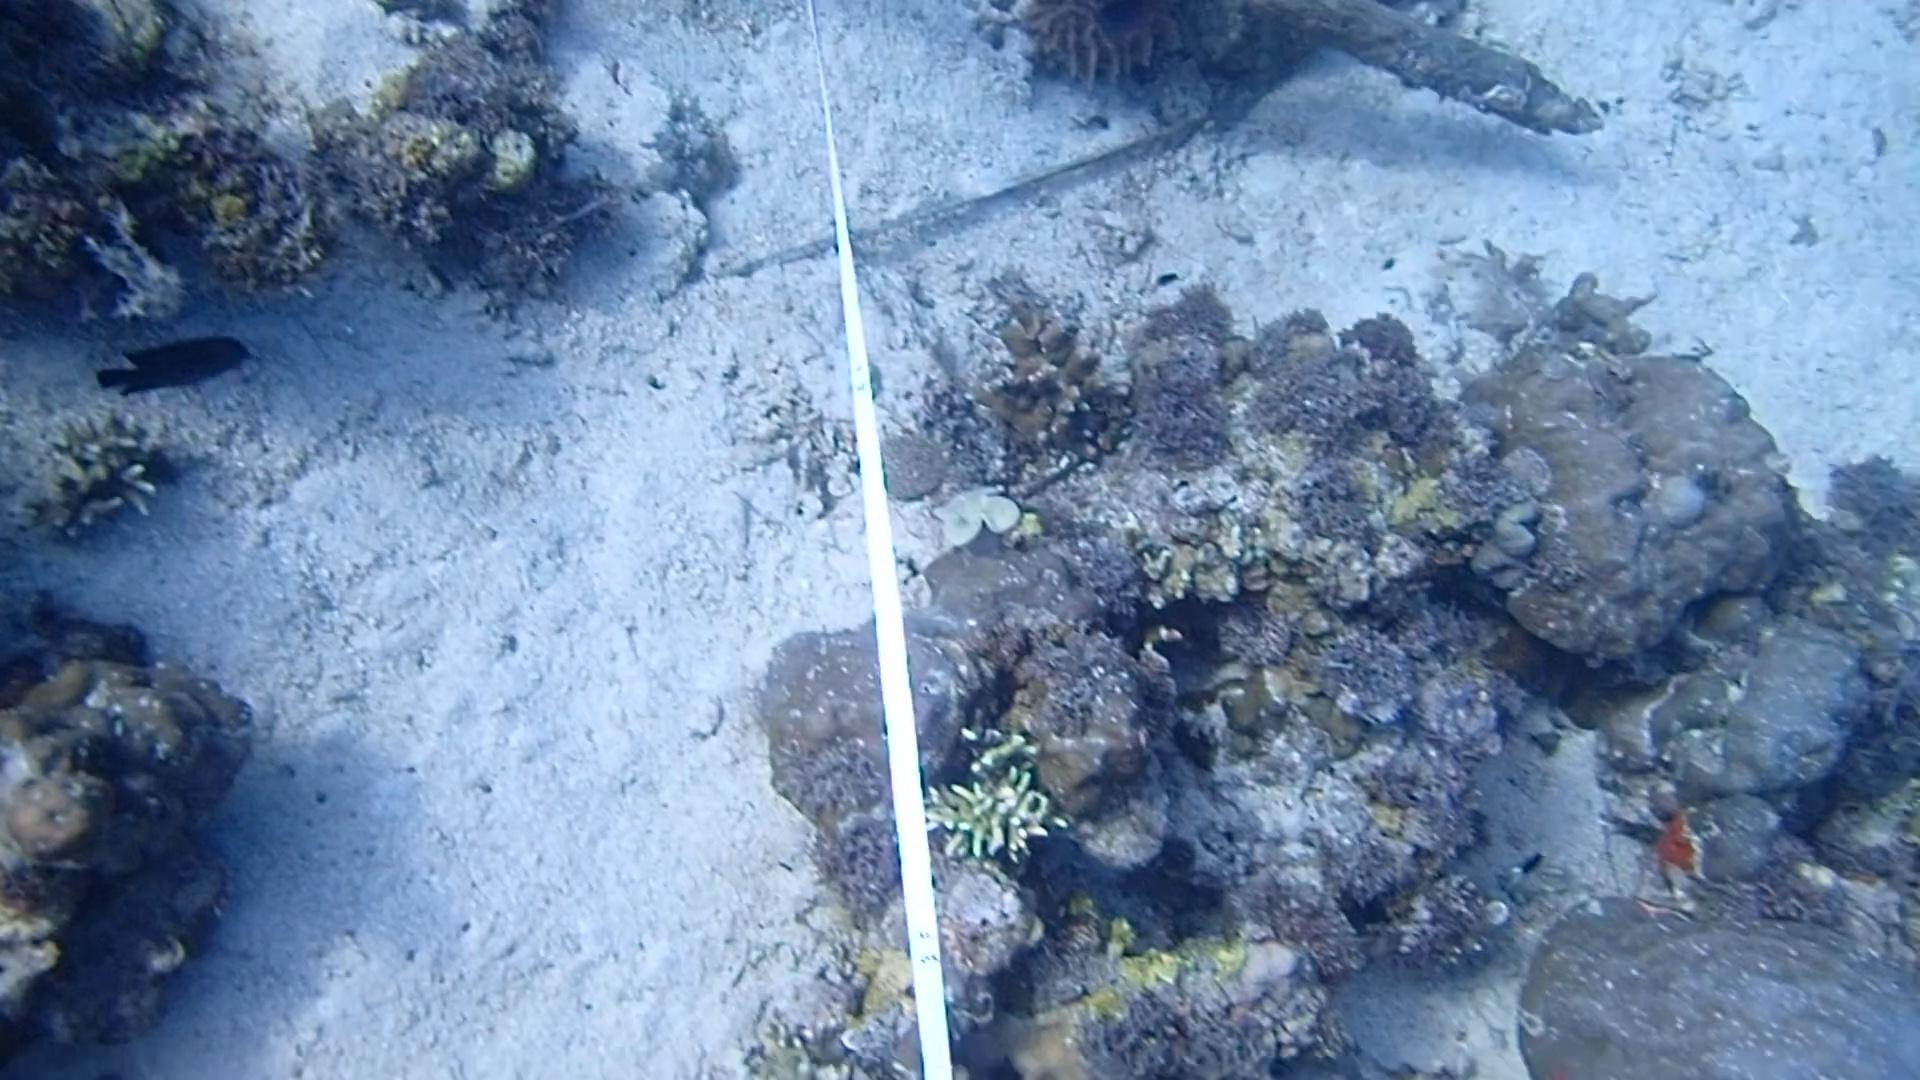Dark Fish: (88, 323, 264, 409)
